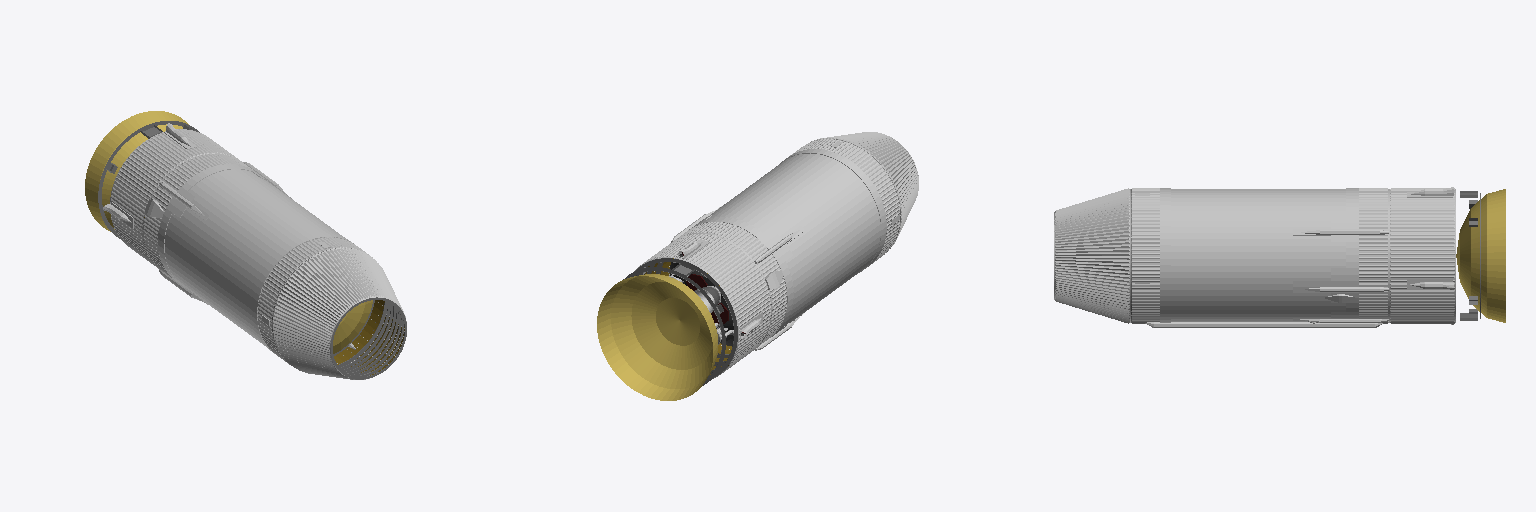
File: 2ndStage.obj
3 renders of one model, left to right at view 1: azimuth 30°, elevation 25°; view 2: azimuth 150°, elevation 25°; view 3: azimuth 270°, elevation 25°, orthographic.
Parts seen in each view (by area): view 1: SII-Body_Cylinder.000, S2IntStage-Stringers_Circle, SII-Griblies_Cylinder.004, S-IC-Tank_ORBGroup1768Mesh.002, S1InterStage-Stringers_Cylinder.006, SII-Stringers_Cylinder.003, S2IntStage-Ribs_Circle.005, S1InterStage-Body_Cylinder.005, S2IntStage-Body_Circle.023, SII-Tank_Sphere, SII-Interior_ORBGroup2644Mesh.001, S1InterStage-ThrusterFairings_ORBGroup1417Mesh (+1 smaller); view 2: SII-Body_Cylinder.000, S-IC-Tank_ORBGroup1768Mesh.002, SII-Griblies_Cylinder.004, S1InterStage-Stringers_Cylinder.006, SII-Stringers_Cylinder.003, S2IntStage-Stringers_Circle, S1InterStage-Body_Cylinder.005, S-IC-Ribs_ORBGroup1430Mesh.002, S1InterStage-ThrusterFairings_ORBGroup1417Mesh; view 3: SII-Body_Cylinder.000, S2IntStage-Stringers_Circle, SII-Griblies_Cylinder.004, S-IC-Tank_ORBGroup1768Mesh.002, S1InterStage-Stringers_Cylinder.006, SII-Stringers_Cylinder.003, S1InterStage-Body_Cylinder.005, S2IntStage-Body_Circle.023, S1InterStage-ThrusterFairings_ORBGroup1417Mesh.
Boxes of the visible parts, <box> form: SII-Body_Cylinder.000: <box>143,154,357,354</box>; S2IntStage-Stringers_Circle: <box>273,248,406,379</box>; SII-Griblies_Cylinder.004: <box>145,162,355,353</box>; S-IC-Tank_ORBGroup1768Mesh.002: <box>85,111,188,231</box>; S1InterStage-Stringers_Cylinder.006: <box>110,129,238,268</box>; SII-Stringers_Cylinder.003: <box>143,154,382,364</box>; S2IntStage-Ribs_Circle.005: <box>272,248,406,379</box>; S1InterStage-Body_Cylinder.005: <box>110,129,230,258</box>; S2IntStage-Body_Circle.023: <box>272,248,381,377</box>; SII-Tank_Sphere: <box>333,300,372,353</box>; SII-Interior_ORBGroup2644Mesh.001: <box>334,300,384,364</box>; S1InterStage-ThrusterFairings_ORBGroup1417Mesh: <box>103,123,196,228</box>; SII-Body_Cylinder.000: <box>688,139,899,341</box>; S-IC-Tank_ORBGroup1768Mesh.002: <box>597,274,717,400</box>; SII-Griblies_Cylinder.004: <box>669,141,899,350</box>; S1InterStage-Stringers_Cylinder.006: <box>635,234,770,378</box>; SII-Stringers_Cylinder.003: <box>669,139,900,349</box>; S2IntStage-Stringers_Circle: <box>810,132,918,251</box>; S1InterStage-Body_Cylinder.005: <box>634,233,771,375</box>; S-IC-Ribs_ORBGroup1430Mesh.002: <box>623,258,737,385</box>; S1InterStage-ThrusterFairings_ORBGroup1417Mesh: <box>676,240,762,338</box>; SII-Body_Cylinder.000: <box>1132,189,1388,322</box>; S2IntStage-Stringers_Circle: <box>1054,188,1129,323</box>; SII-Griblies_Cylinder.004: <box>1135,188,1388,327</box>; S-IC-Tank_ORBGroup1768Mesh.002: <box>1456,189,1505,322</box>; S1InterStage-Stringers_Cylinder.006: <box>1390,188,1454,323</box>; SII-Stringers_Cylinder.003: <box>1131,188,1388,323</box>; S1InterStage-Body_Cylinder.005: <box>1389,189,1455,322</box>; S2IntStage-Body_Circle.023: <box>1054,189,1130,322</box>; S1InterStage-ThrusterFairings_ORBGroup1417Mesh: <box>1407,187,1453,324</box>.
Bounding box in the file's own units: 11.42 × 11.42 × 33.73.